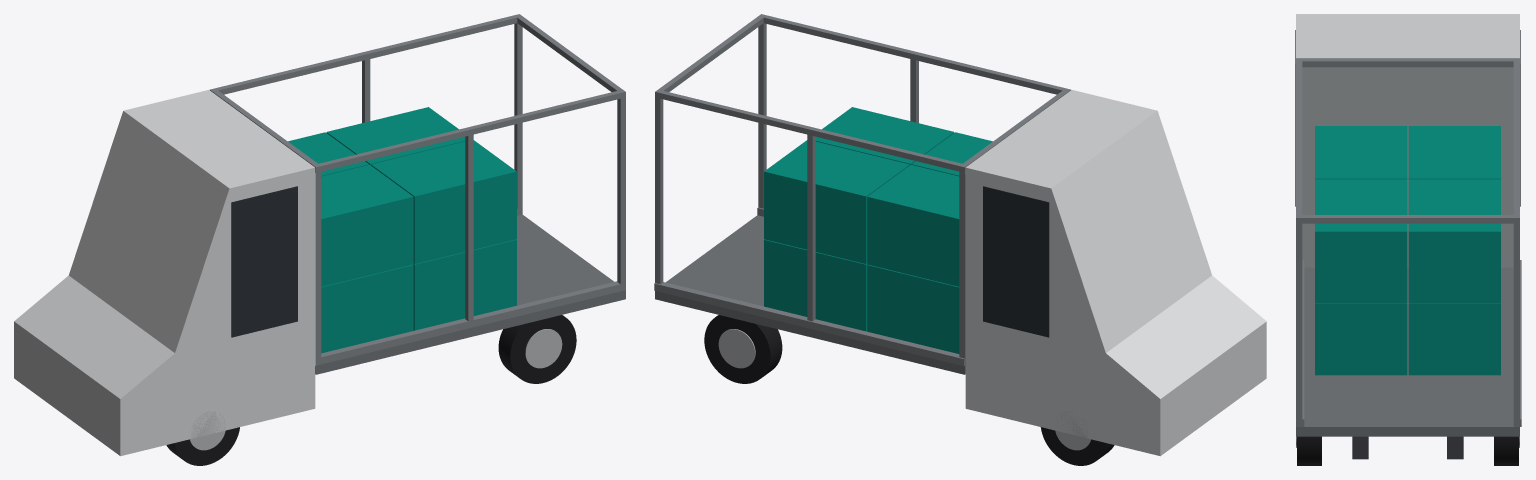
Rendered from van-PN11.glb.
The picture shows the model from 3 angles, left to right: view 1: azimuth 30°, elevation 25°; view 2: azimuth 150°, elevation 25°; view 3: azimuth 270°, elevation 25°; orthographic projection. The views are drawn at different scales.
Parts seen in each view (by area): view 1: cabine, part33, part29, janela, piso, part31, part27, part34, part11, part23, part10, part12 (+10 smaller); view 2: cabine, part34, part30, janela, piso, part32, part28, part33, part13, part25, part12, part10 (+10 smaller); view 3: frente, piso, part33, part34, cabine, part31, part32, part29, part30, part14, part15, part8 (+9 smaller).
Boxes of the visible parts, bbox=[...] form: cabine: bbox=[14, 90, 315, 456]; part33: bbox=[371, 140, 516, 263]; part29: bbox=[321, 164, 413, 286]; janela: bbox=[231, 186, 297, 337]; piso: bbox=[315, 214, 625, 374]; part31: bbox=[413, 239, 516, 330]; part27: bbox=[321, 264, 413, 353]; part34: bbox=[326, 107, 465, 165]; part11: bbox=[316, 281, 625, 364]; part23: bbox=[498, 315, 576, 383]; part10: bbox=[313, 89, 625, 172]; part12: bbox=[210, 14, 522, 94]; cabine: bbox=[965, 90, 1266, 456]; part34: bbox=[764, 140, 909, 263]; part30: bbox=[867, 165, 959, 286]; janela: bbox=[983, 186, 1049, 337]; piso: bbox=[655, 215, 965, 374]; part32: bbox=[764, 239, 867, 331]; part28: bbox=[867, 264, 959, 353]; part33: bbox=[815, 107, 954, 165]; part13: bbox=[654, 282, 964, 366]; part25: bbox=[704, 315, 782, 383]; part12: bbox=[655, 89, 967, 172]; part10: bbox=[758, 14, 1070, 94]; frente: bbox=[1302, 67, 1513, 267]; piso: bbox=[1296, 267, 1519, 436]; part33: bbox=[1315, 179, 1407, 303]; part34: bbox=[1408, 179, 1500, 303]; cabine: bbox=[1296, 14, 1519, 58]; part31: bbox=[1315, 303, 1407, 375]; part32: bbox=[1408, 303, 1500, 375]; part29: bbox=[1315, 126, 1407, 179]; part30: bbox=[1408, 126, 1500, 179]; part14: bbox=[1302, 58, 1517, 67]; part15: bbox=[1296, 215, 1519, 223]; part8: bbox=[1296, 223, 1302, 426].
Bounding box in the file's own units: 5.19 × 2.66 × 1.91.
